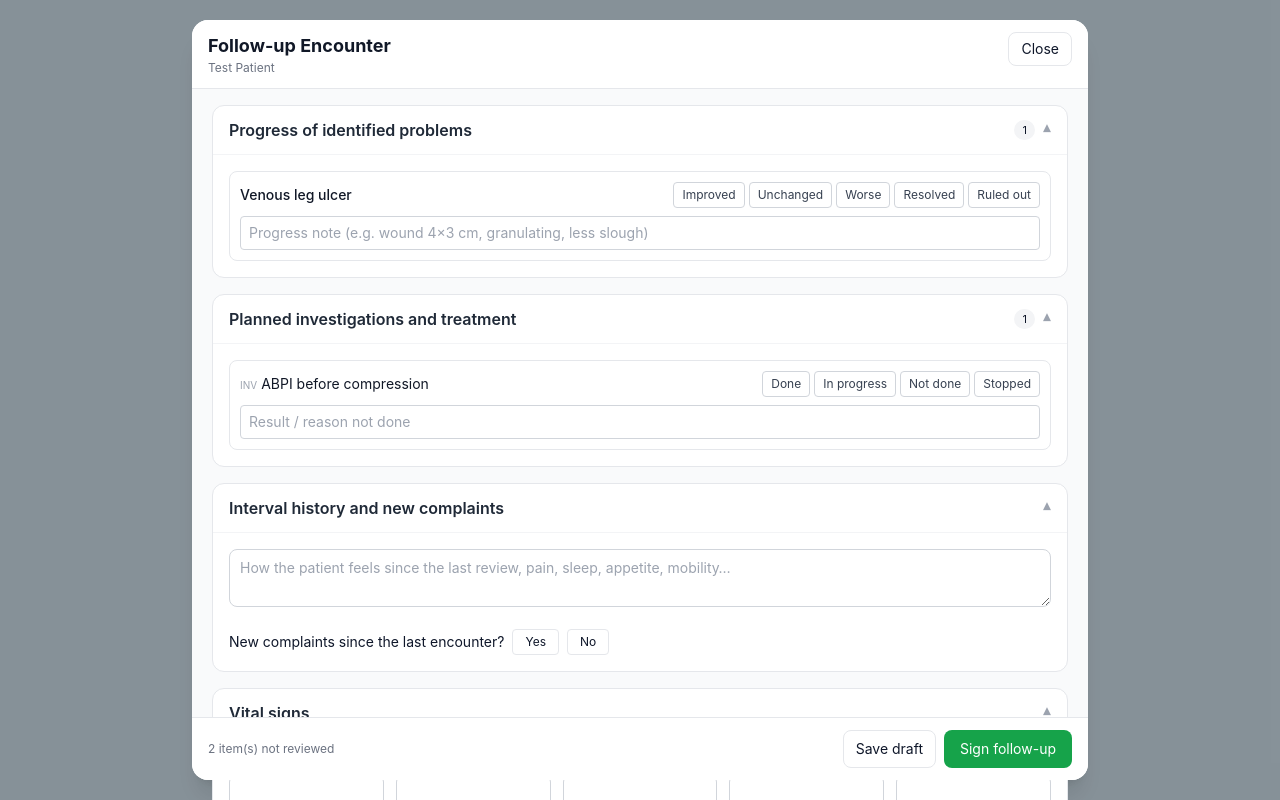
Test: FollowUpEncounterForm › lists open problems and plan items for review and accepts new complaints
Expected: the text "Venous leg ulcer" is shown, [240,185,352,205]
Expected: the text "ABPI before compression" is shown, [261,374,429,392]
Click the button "Improved" at (709, 195), box [673,182,745,208]
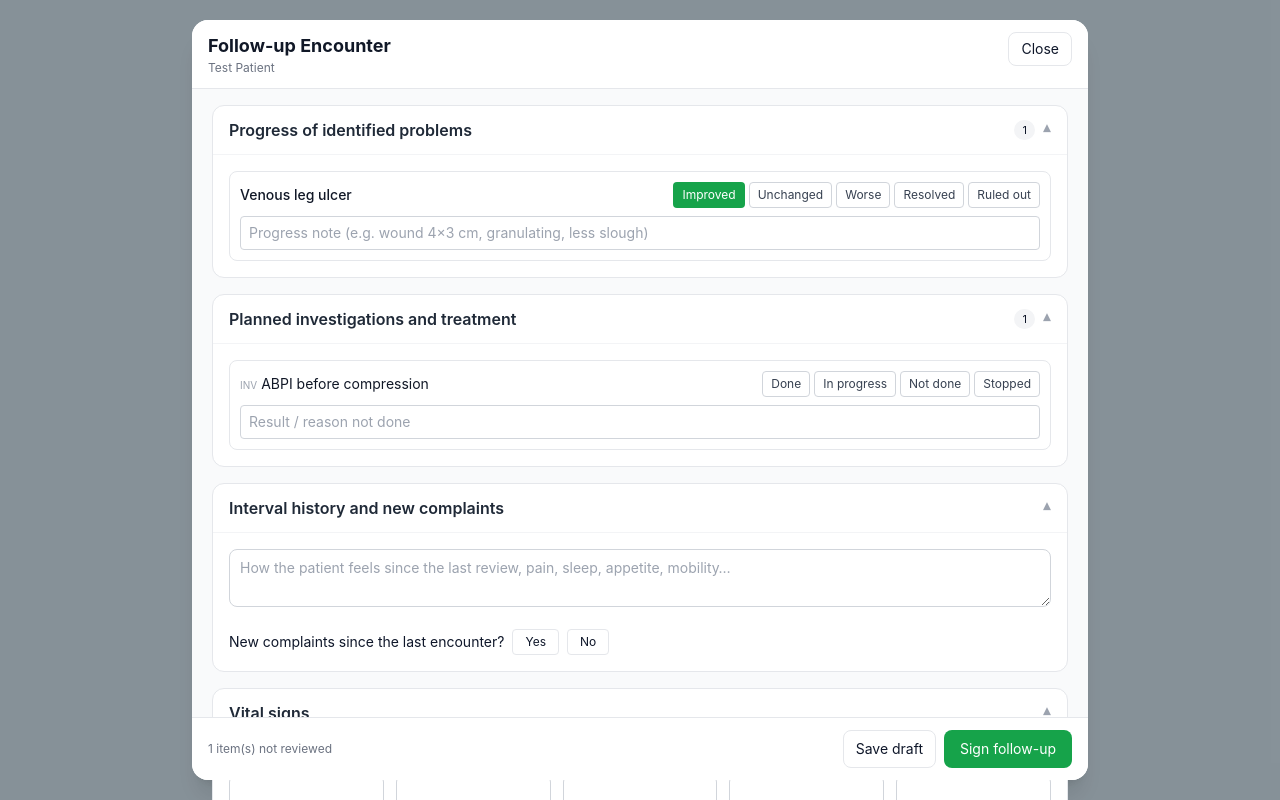
Click the button "Done" at (786, 384), box [762,371,810,397]
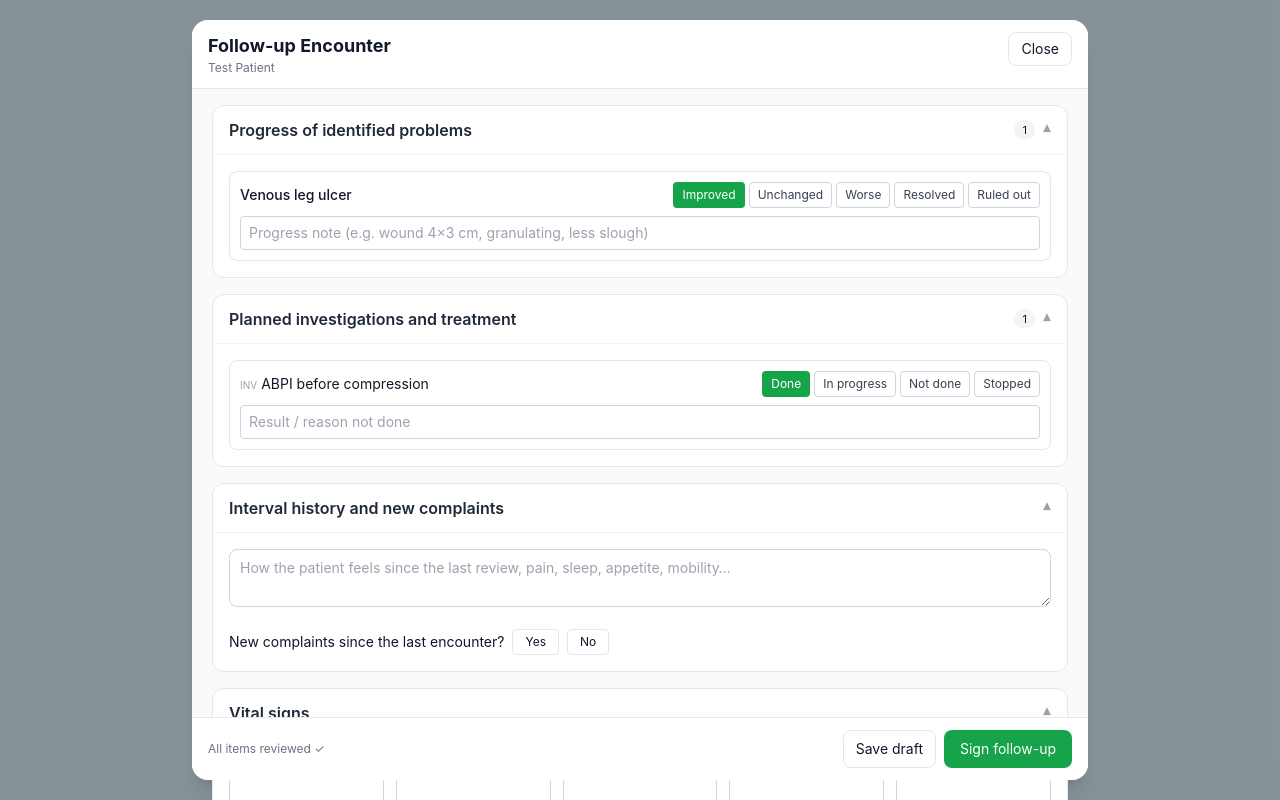
Expected: the text "All items reviewed ✓" is shown, [208,741,325,757]
Click the button "Yes" at (536, 642), box [512,629,559,655]
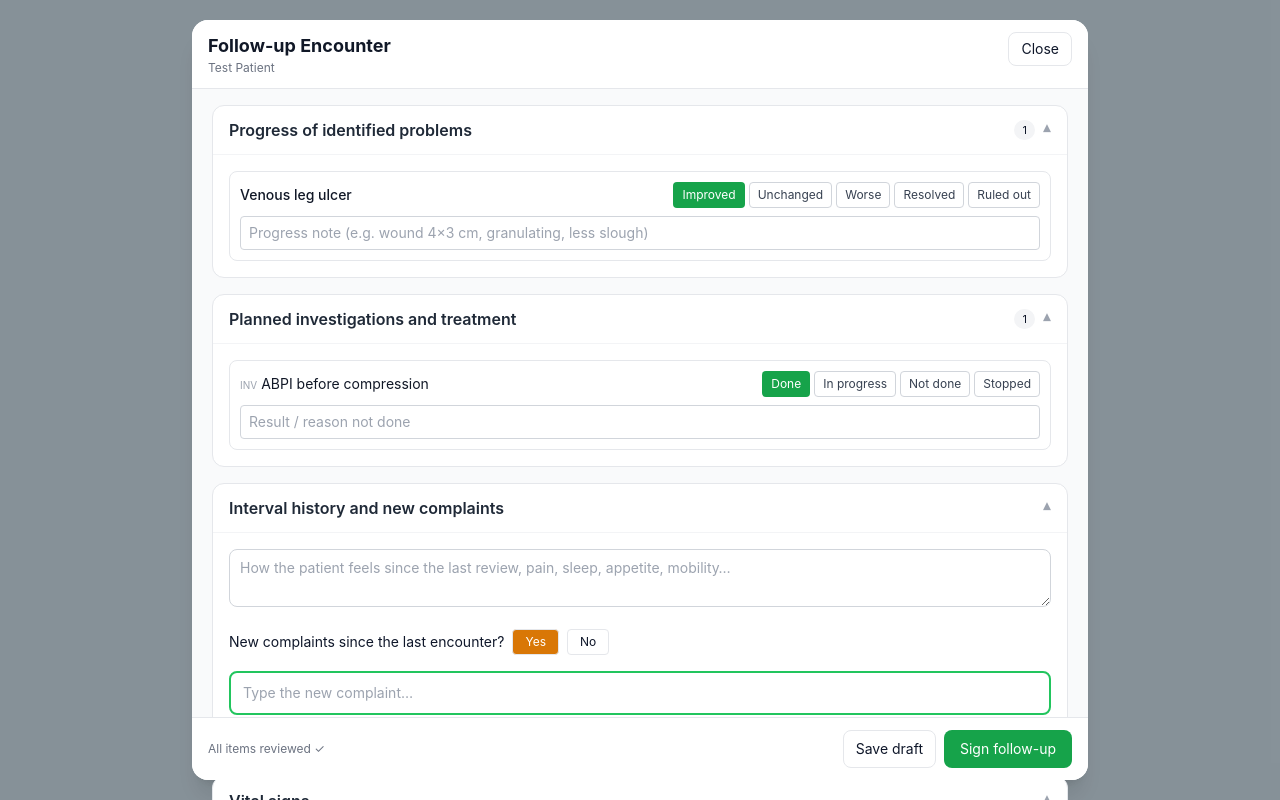
Expected: the button "Sign follow-up" is shown, [944,730,1072,768]
Expected: the field with placeholder "Type the new complaint…" is shown, [229,671,1051,715]
